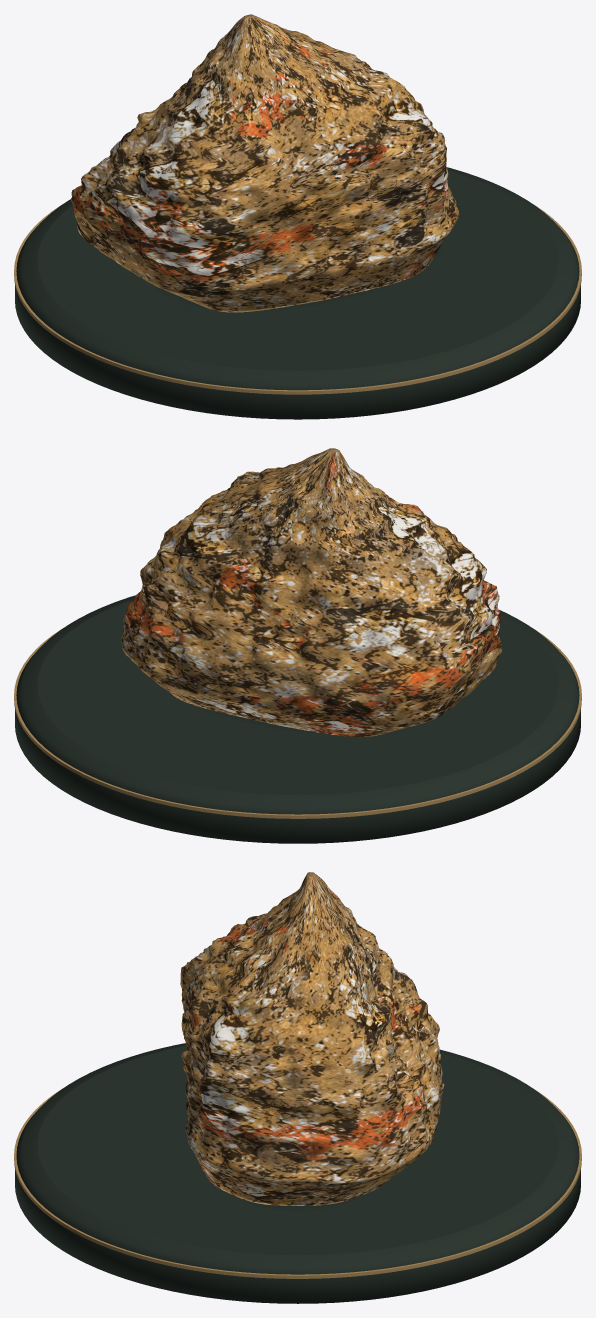
File: lingstone-concept-10-v192-8465622133df.glb
3 renders of one model, top to bottom at view 1: azimuth 30°, elevation 25°; view 2: azimuth 150°, elevation 25°; view 3: azimuth 270°, elevation 25°, orthographic.
Parts seen in each view (by area): view 1: XY-CONCEPT-010 concept stone, Centered beveled display plinth, Champagne gold edge; view 2: XY-CONCEPT-010 concept stone, Centered beveled display plinth, Champagne gold edge; view 3: Centered beveled display plinth, XY-CONCEPT-010 concept stone, Champagne gold edge.
Boxes of the visible parts, <box> form: XY-CONCEPT-010 concept stone: <box>70,14,459,312</box>; Centered beveled display plinth: <box>15,167,580,419</box>; Champagne gold edge: <box>14,203,581,394</box>; XY-CONCEPT-010 concept stone: <box>121,448,501,736</box>; Centered beveled display plinth: <box>15,595,580,843</box>; Champagne gold edge: <box>14,628,581,818</box>; Centered beveled display plinth: <box>15,1043,580,1303</box>; XY-CONCEPT-010 concept stone: <box>180,872,444,1205</box>; Champagne gold edge: <box>14,1088,581,1278</box>.
Bounding box in the file's own units: 2.31 × 1.32 × 2.31.
4 materials, 1 textured.
